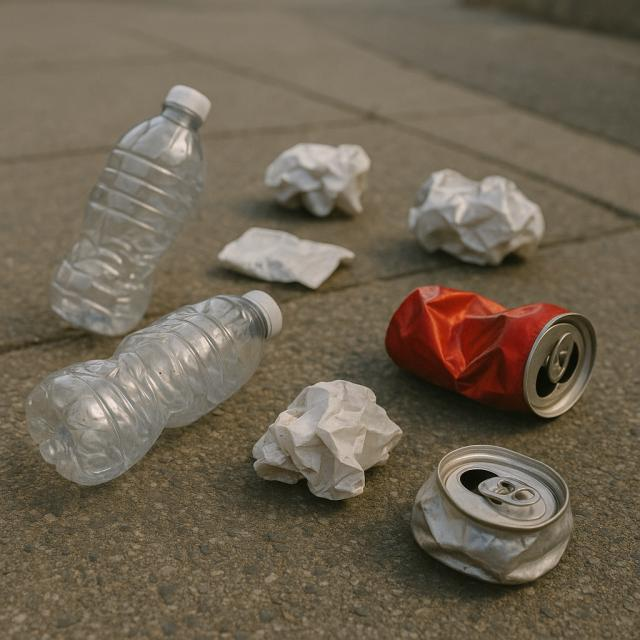aluminum: (382, 273, 596, 422), (416, 441, 572, 584)
paper: (250, 379, 406, 507), (411, 164, 545, 273), (266, 144, 372, 222)
plastic: (23, 290, 282, 488), (49, 80, 214, 336)
